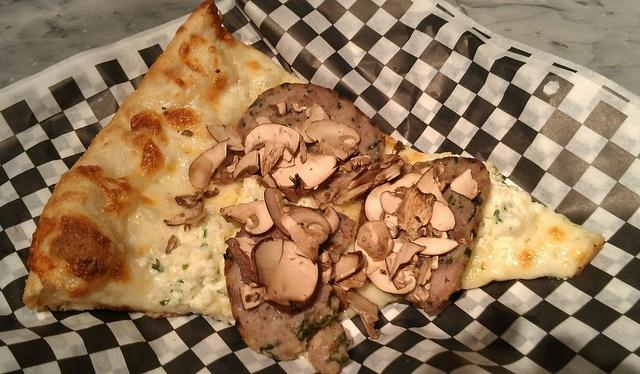mushroom: (225, 237, 319, 312), (271, 141, 338, 198), (280, 203, 340, 266), (354, 238, 419, 294), (364, 172, 422, 228), (245, 124, 307, 176), (392, 184, 437, 238), (304, 119, 360, 162), (264, 187, 304, 240), (189, 138, 230, 189), (219, 200, 274, 235), (356, 220, 394, 262), (286, 103, 324, 143), (389, 242, 426, 281), (332, 250, 364, 282), (450, 168, 482, 200), (428, 200, 456, 231), (414, 238, 459, 255)
